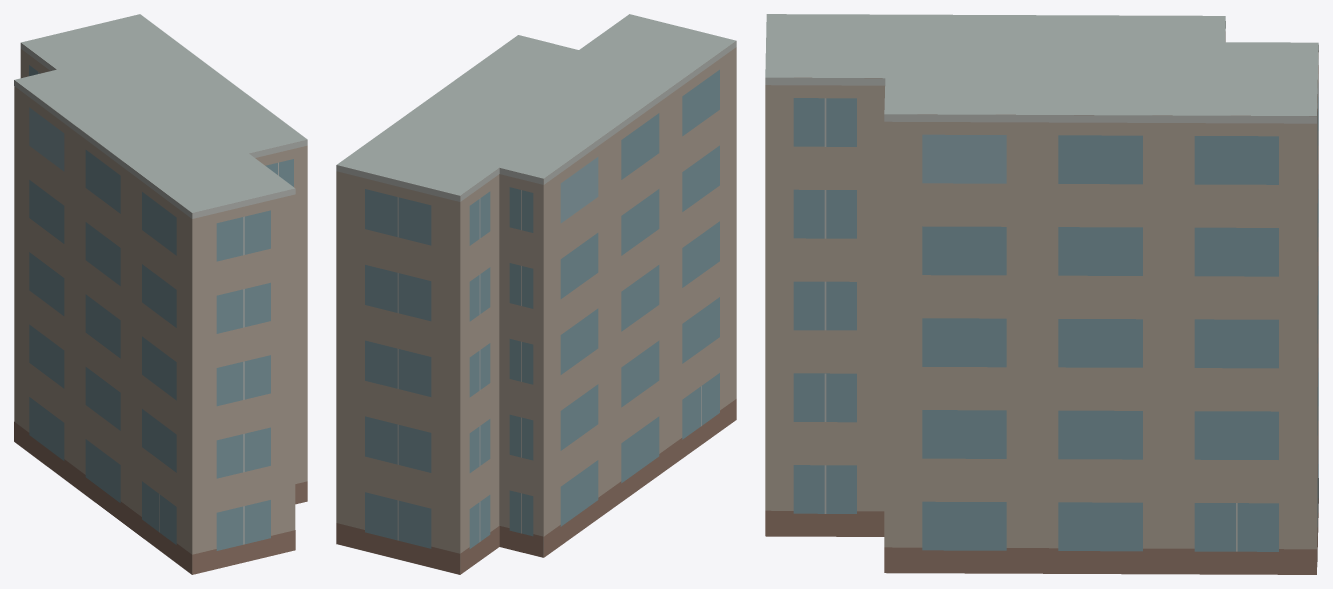
The model's file is survey-upis-32854839.glb.
3 views of the same model, side by side, from view 1: azimuth 30°, elevation 25°; view 2: azimuth 150°, elevation 25°; view 3: azimuth 270°, elevation 25° (orthographic). The views are drawn at different scales.
Visible parts, largest first — view 1: survey-upis-32854839.tmp; view 2: survey-upis-32854839.tmp; view 3: survey-upis-32854839.tmp.
Boxes of the visible parts, x1=… form: survey-upis-32854839.tmp: x1=14, y1=14, x2=307, y2=574; survey-upis-32854839.tmp: x1=336, y1=14, x2=736, y2=574; survey-upis-32854839.tmp: x1=765, y1=14, x2=1318, y2=574.
Size of the model in its own units: 7.07 by 14.8 by 16.19.
